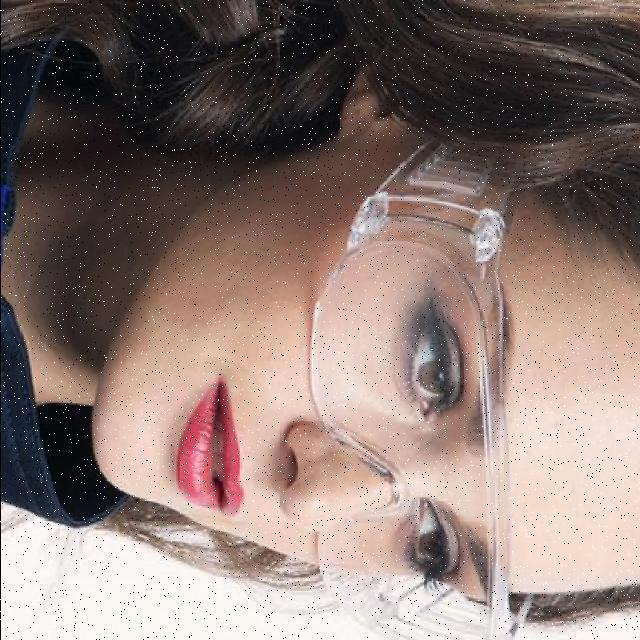Goggles: (295, 140, 537, 640)
